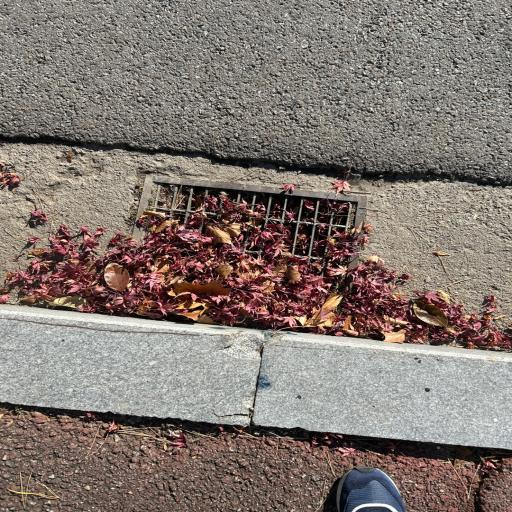debris: (119, 194, 369, 334), (312, 226, 328, 255), (297, 225, 311, 254), (333, 204, 350, 226), (302, 201, 317, 220), (287, 201, 301, 221), (318, 203, 330, 222), (271, 201, 283, 219)
drain: (118, 175, 367, 335)
